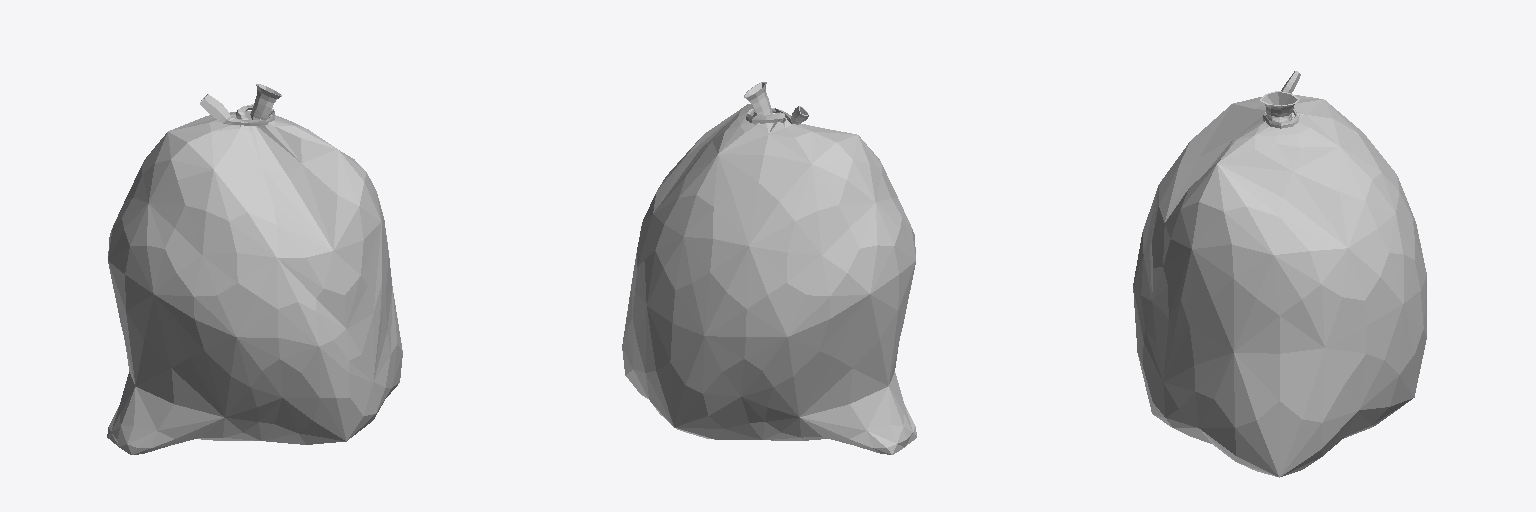
File: uploads_files_2037692_garbage.bag.obj
The picture shows the model from 3 angles: view 1: azimuth 30°, elevation 25°; view 2: azimuth 150°, elevation 25°; view 3: azimuth 270°, elevation 25°; orthographic projection.
Visible parts, largest first — view 1: Icosphere; view 2: Icosphere; view 3: Icosphere.
Part boxes in pixels (x1,y1,x2,y2): Icosphere: (107,84,402,454); Icosphere: (622,82,916,454); Icosphere: (1133,71,1426,477).
Size of the model in its own units: 8.6 by 9.9 by 7.88.